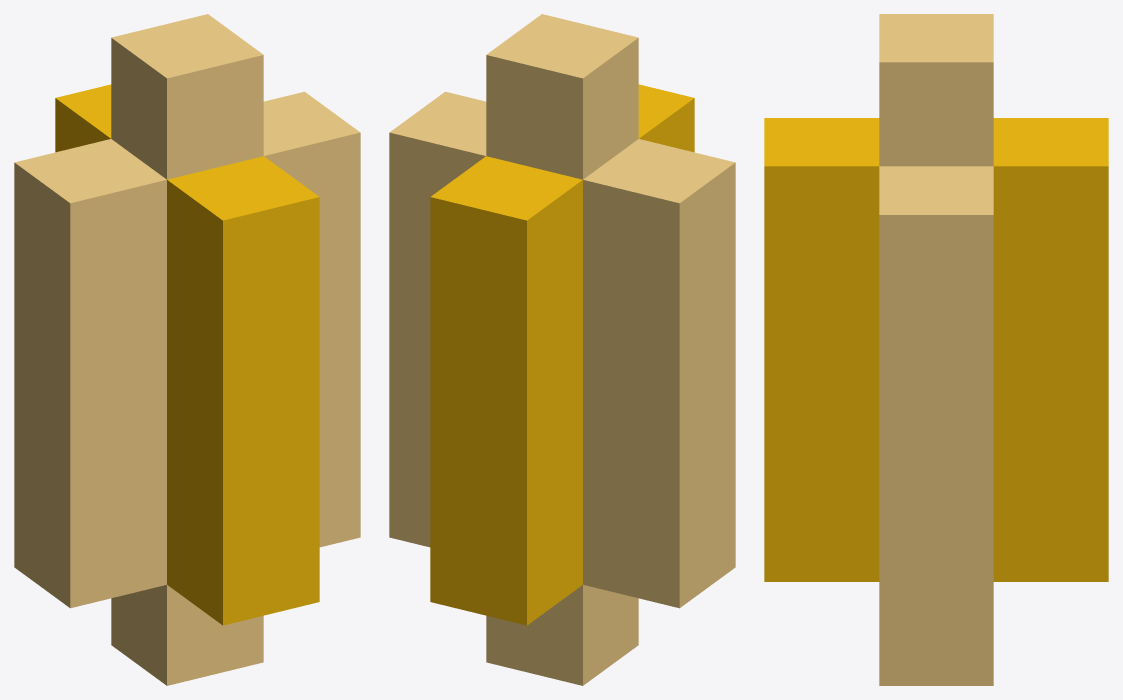
Rendered from bullet.obj.
3 views of the same model, side by side, from view 1: azimuth 30°, elevation 25°; view 2: azimuth 150°, elevation 25°; view 3: azimuth 270°, elevation 25° (orthographic). The views are drawn at different scales.
Visible parts, largest first — view 1: bullet; view 2: bullet; view 3: bullet.
Part boxes in pixels (x1,y1,x2,y2): bullet: (14, 14, 360, 685); bullet: (389, 14, 735, 685); bullet: (764, 14, 1108, 685).
Bounding box in the file's own units: 3 × 6 × 3.
1 material, 1 textured.
